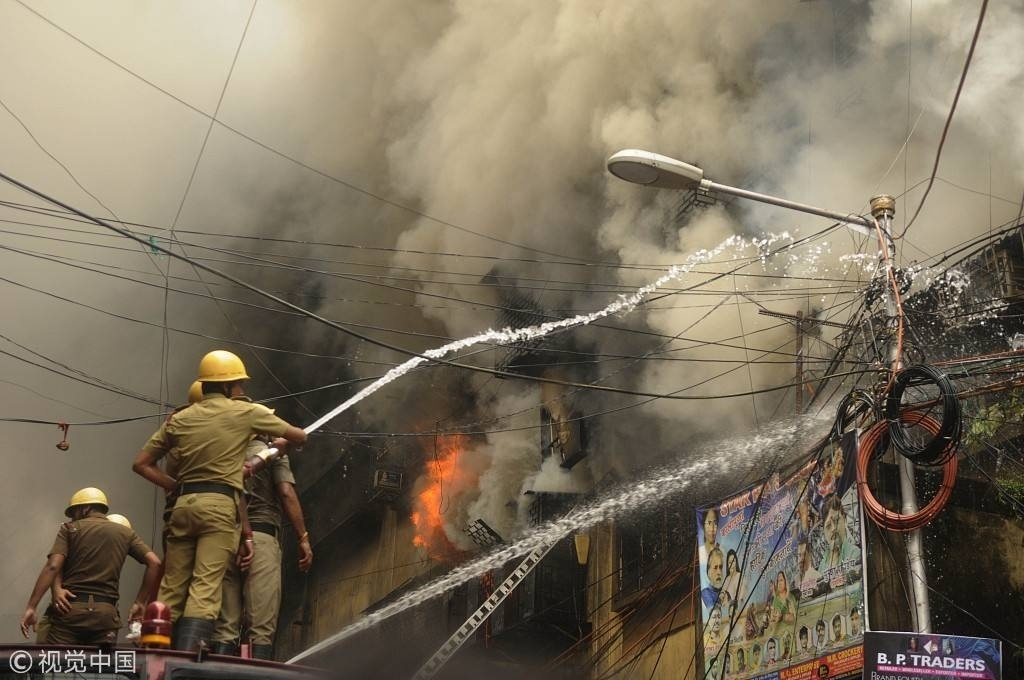fire: (408, 438, 472, 550)
